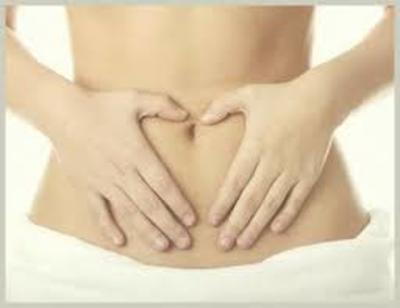mindinho: (270, 177, 322, 247), (84, 190, 129, 255)
